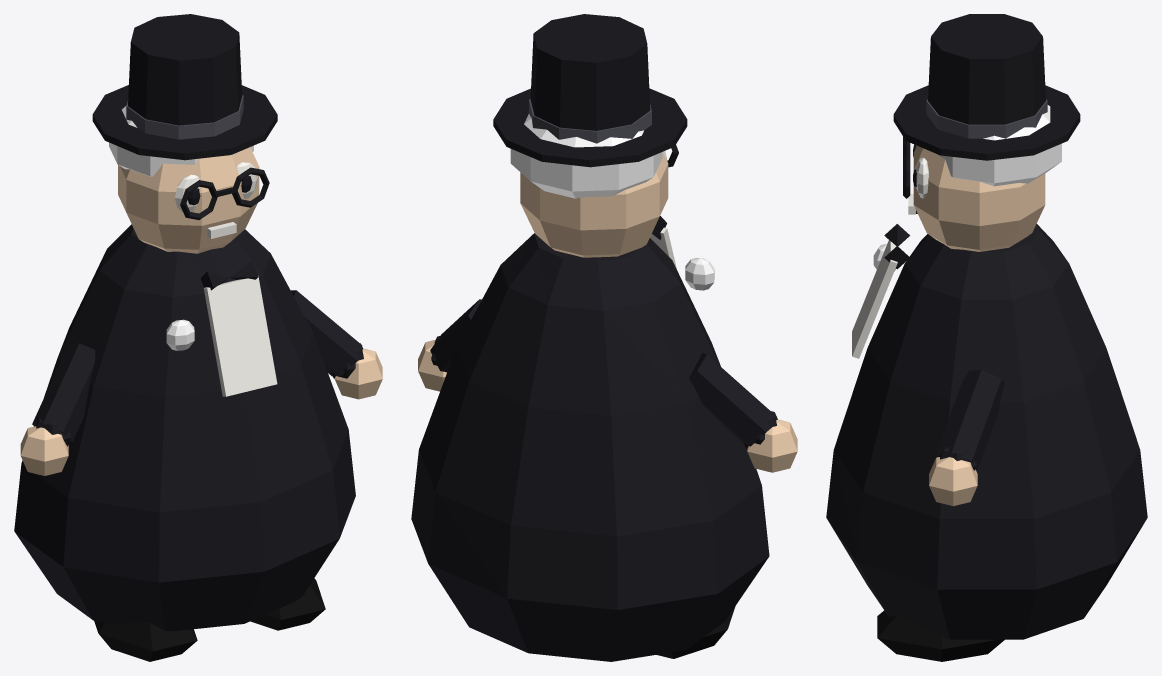
Rendered from npc_tuxedo.glb.
3 views of the same model, side by side, from view 1: azimuth 30°, elevation 25°; view 2: azimuth 150°, elevation 25°; view 3: azimuth 270°, elevation 25° (orthographic). The views are drawn at different scales.
Visible parts, largest first — view 1: body_tux_black, hat_black, head_skin_crema, body_tux_shirt, arms_tux_black, legs_tux_shoes, arms_skin_crema, hat_hat_band, glasses_black, hair_hair, carnation_carnation, face_white (+1 smaller); view 2: body_tux_black, hat_black, head_skin_crema, arms_tux_black, hair_hair, arms_skin_crema, hat_hat_band, carnation_carnation, legs_tux_shoes; view 3: body_tux_black, hat_black, head_skin_crema, arms_tux_black, hair_hair, legs_tux_shoes, arms_skin_crema, body_tux_shirt, hat_hat_band, body_black.
Part boxes in pixels (x1,y1,x2,y2): body_tux_black: (14, 224, 355, 631); hat_black: (92, 14, 277, 160); head_skin_crema: (118, 147, 259, 253); body_tux_shirt: (203, 276, 277, 396); arms_tux_black: (32, 290, 363, 446); legs_tux_shoes: (94, 578, 325, 661); arms_skin_crema: (20, 348, 382, 475); hat_hat_band: (126, 95, 243, 139); glasses_black: (180, 167, 269, 219); hair_hair: (109, 105, 253, 176); carnation_carnation: (166, 319, 194, 350); face_white: (175, 162, 257, 212); body_tux_black: (411, 233, 769, 661); hat_black: (493, 14, 687, 167); head_skin_crema: (520, 152, 668, 257); arms_tux_black: (430, 299, 777, 448); hair_hair: (510, 114, 662, 198); arms_skin_crema: (418, 339, 797, 472); hat_hat_band: (529, 99, 651, 143); carnation_carnation: (685, 257, 714, 290); legs_tux_shoes: (656, 606, 735, 658); body_tux_black: (826, 224, 1147, 639); hat_black: (893, 14, 1080, 160); head_skin_crema: (913, 145, 1045, 251); arms_tux_black: (936, 370, 1004, 470); hair_hair: (937, 105, 1061, 186); legs_tux_shoes: (877, 610, 1004, 661); arms_skin_crema: (929, 457, 977, 506); body_tux_shirt: (852, 240, 897, 358); hat_hat_band: (926, 99, 1047, 138); body_black: (884, 224, 910, 269).
Bounding box in the file's own units: 1.13 × 1.73 × 0.86.
